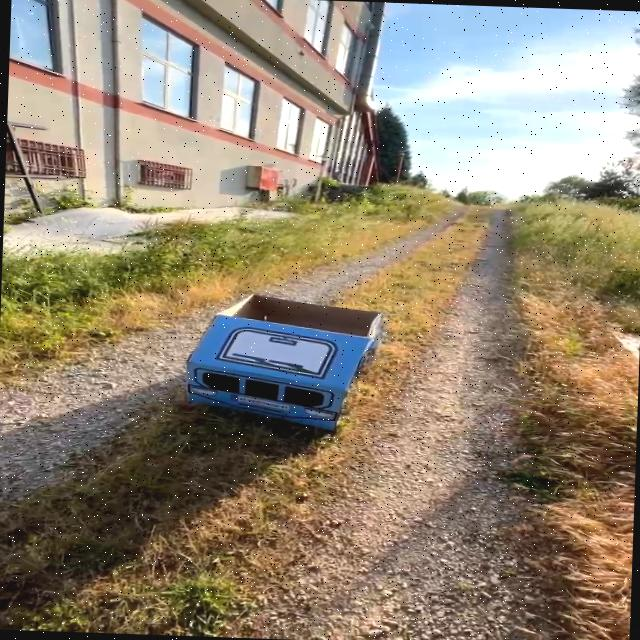blue_car: (139, 277, 456, 468)
